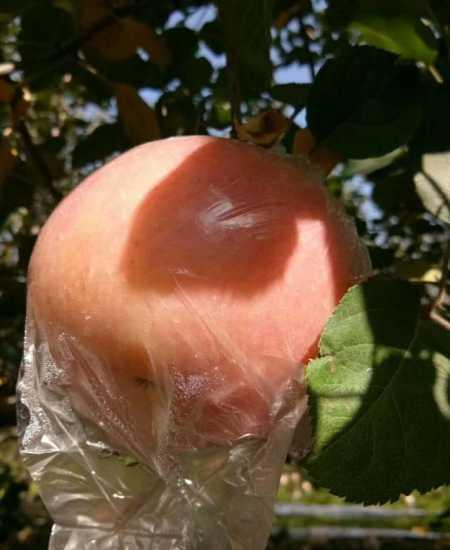apple: (28, 135, 371, 449)
